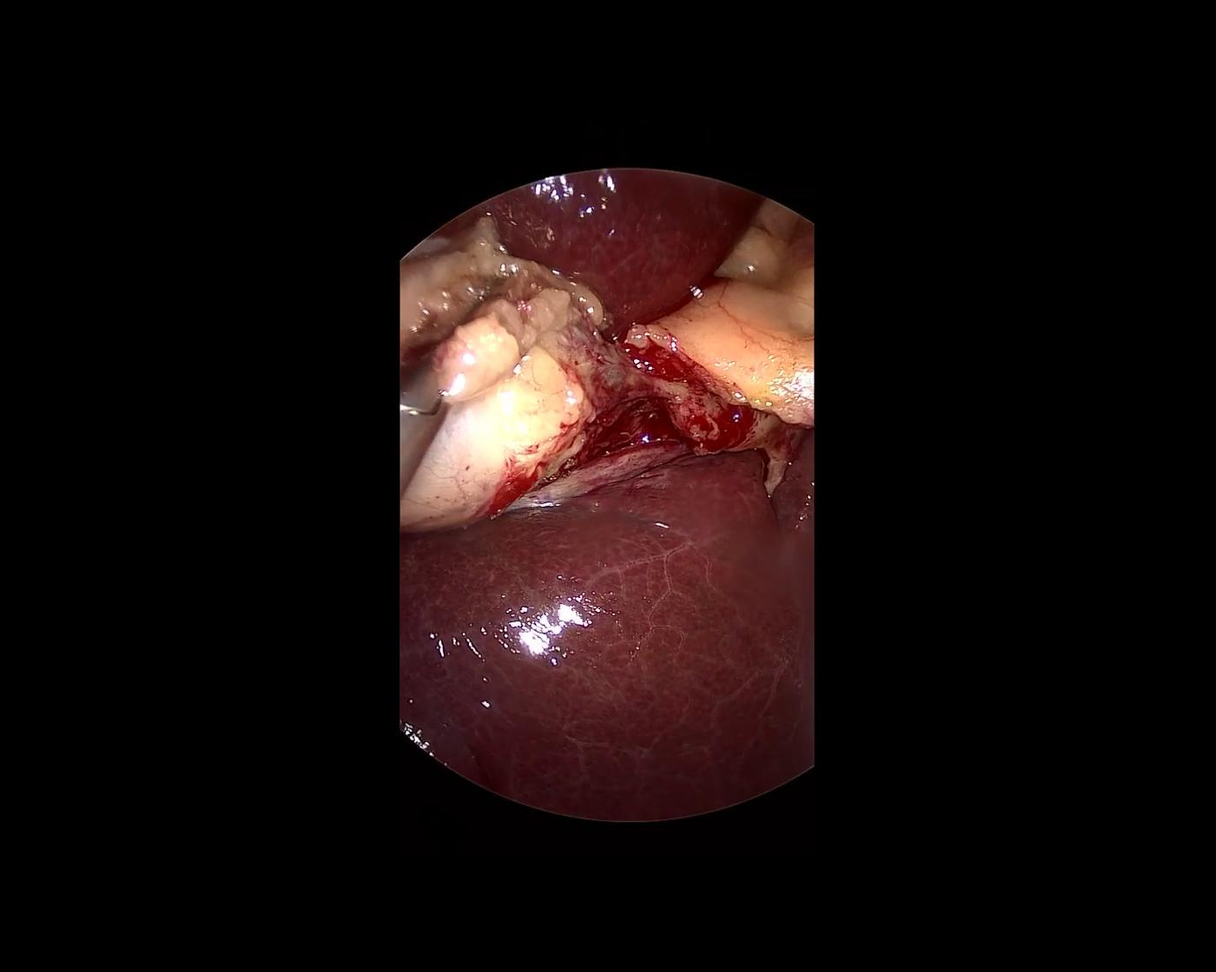Gallbladder: (402, 235, 603, 529)
Liver: (401, 424, 815, 818), (435, 70, 763, 360)
